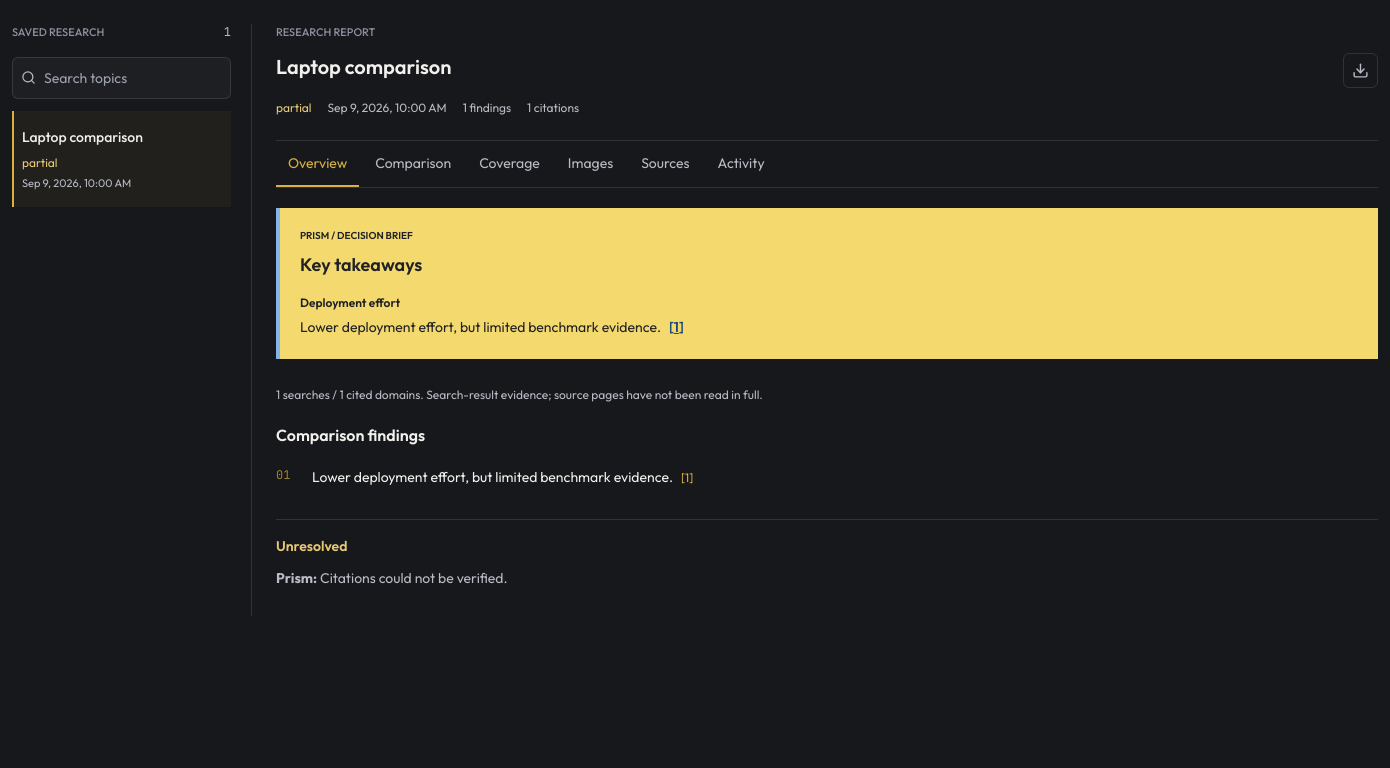
Test: saved research reports › highlights cited Prism takeaways and shows comparison focus and measured coverage
Expected: the element named "Key takeaways" shows "Deployment effort", top-left (300, 294), bottom-right (400, 310)
Expected: the link to "https://example.com/review" is shown, top-left (669, 314), bottom-right (684, 338)
What coordinates should you click on to do the following:
click the tab "Comparison"
I would click on:
 (413, 164)
Its box is top-left (363, 140), bottom-right (463, 186).
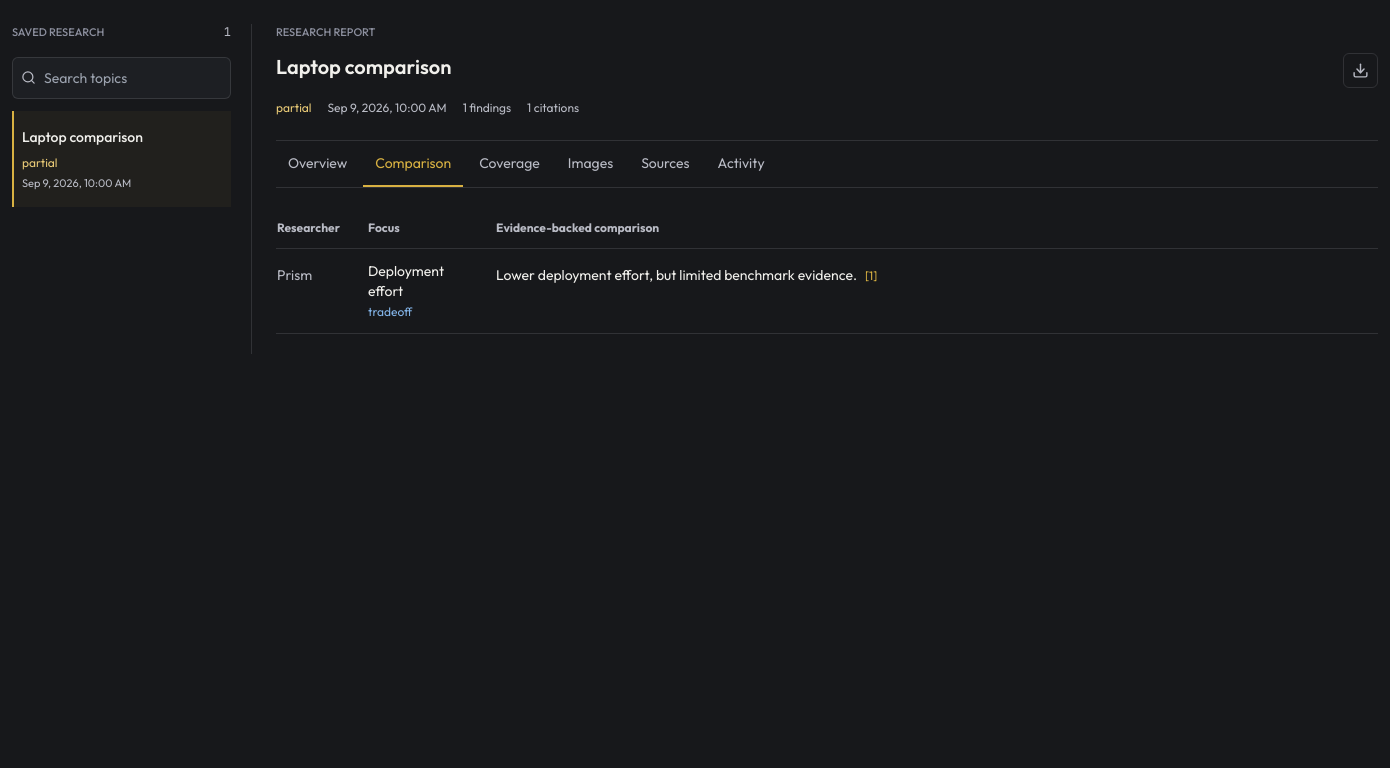
Expected: the table shows "tradeoff", top-left (368, 304), bottom-right (412, 318)
What coordinates should you click on to do the following:
click the tab "Coverage"
I would click on:
 (510, 164)
Its box is top-left (467, 140), bottom-right (552, 186).
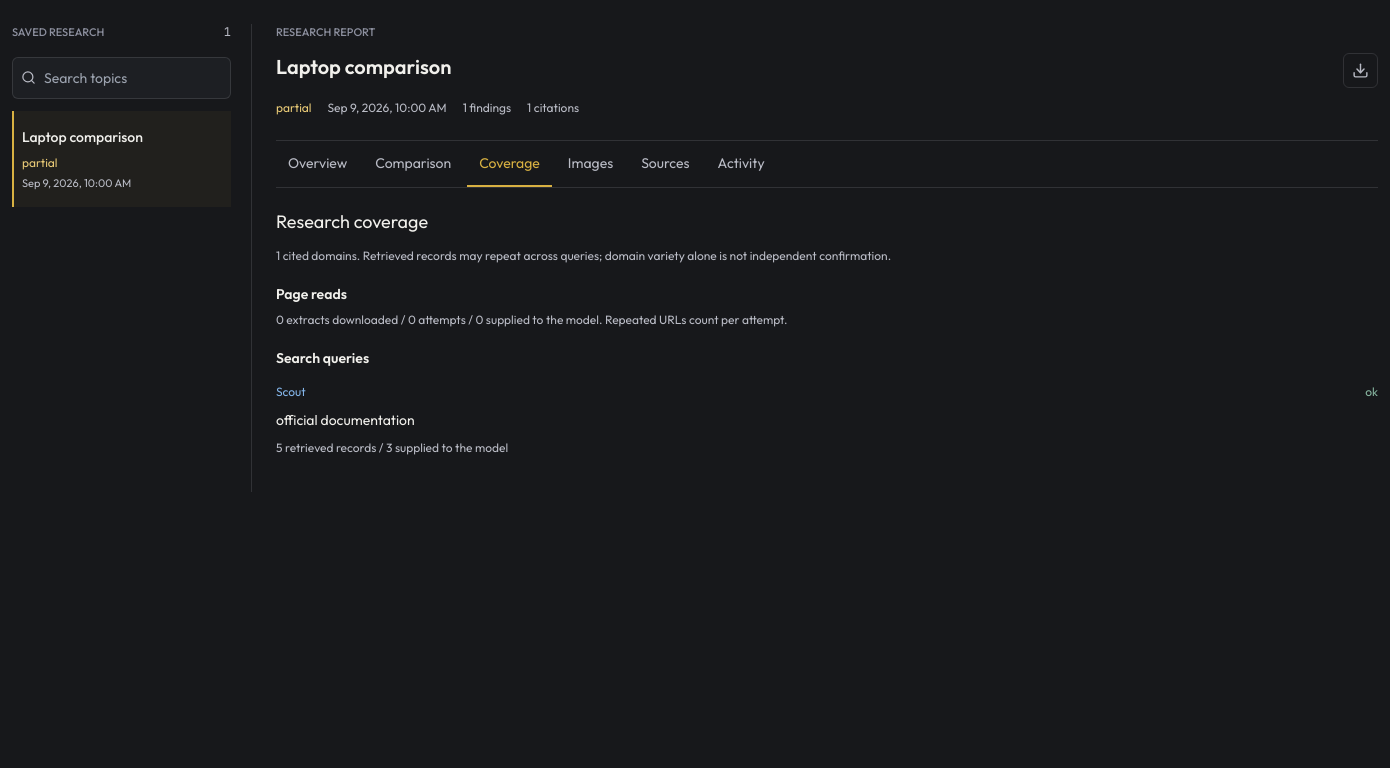
Expected: the text "5 retrieved records / 3 supplied to the model" is shown, top-left (276, 440), bottom-right (508, 454)
